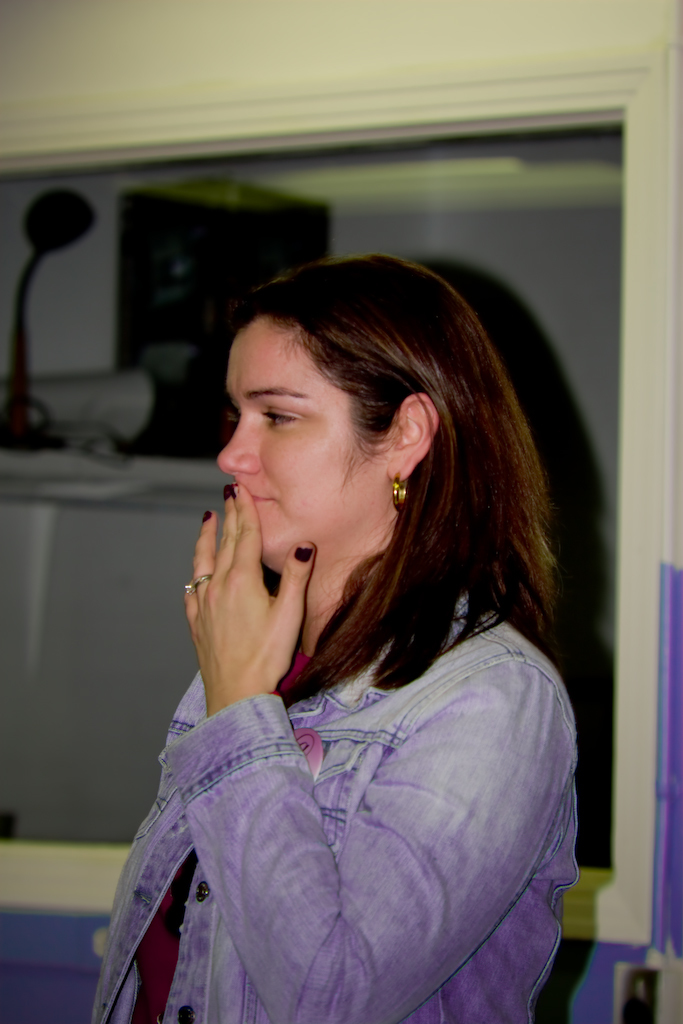Human_hand: (189, 488, 322, 734)
